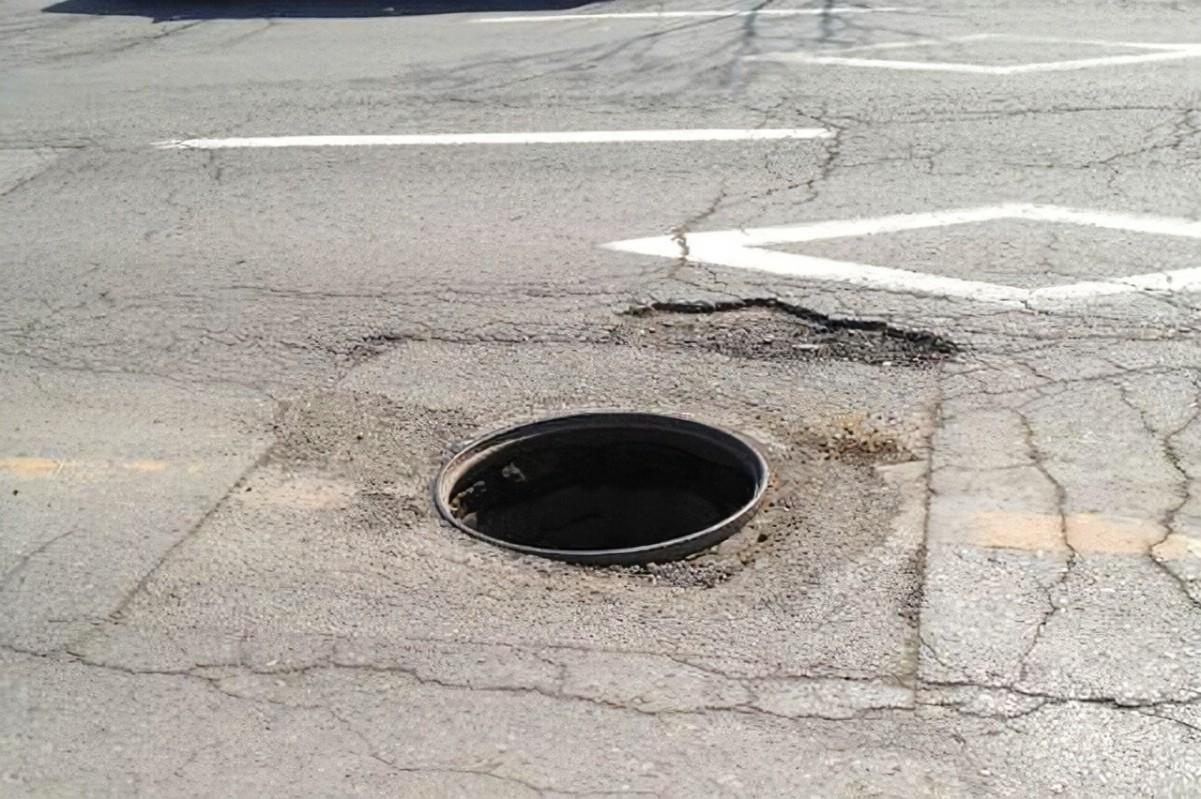wellcover: (422, 406, 778, 560)
